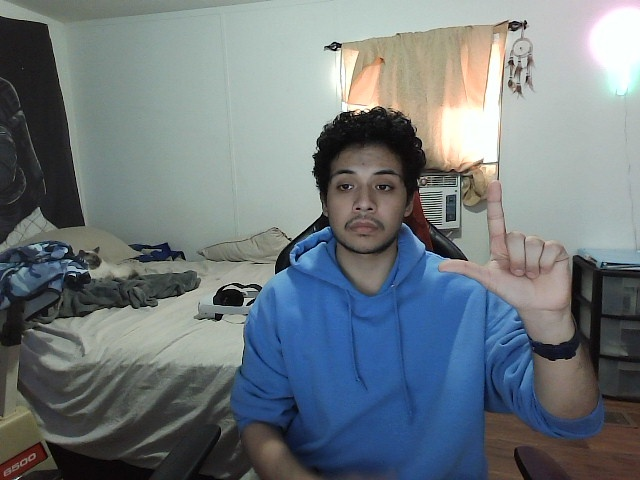L: (434, 178, 575, 312)
